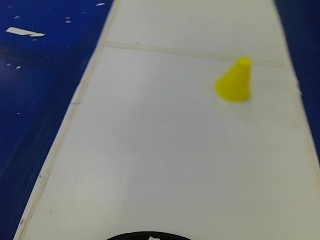cone: (212, 52, 255, 105)
